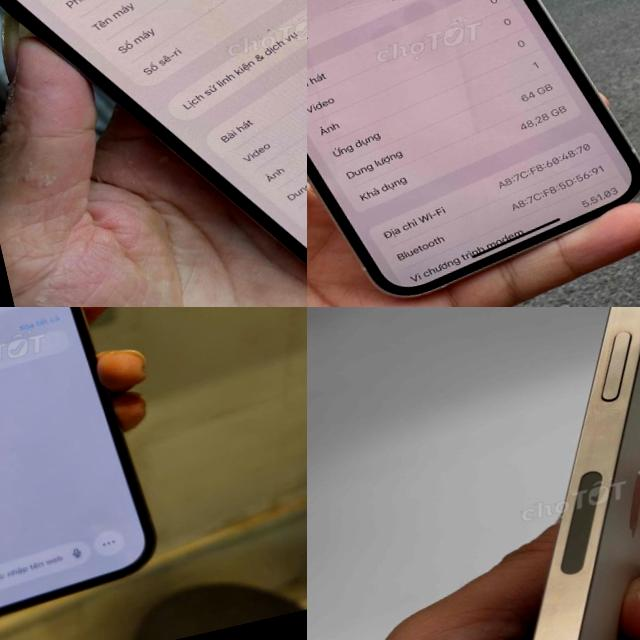gen_12_13: (307, 0, 640, 307), (0, 307, 175, 640)
gen_14: (0, 0, 307, 307), (532, 307, 640, 640)
